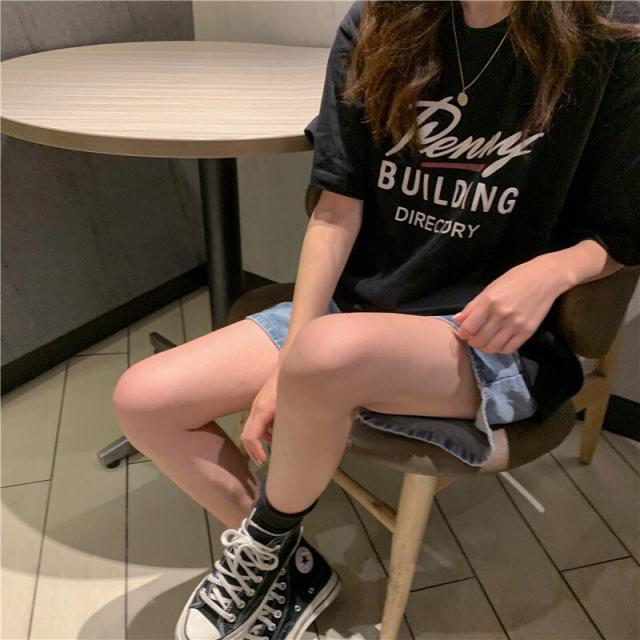Shirt: (304, 0, 640, 311)
